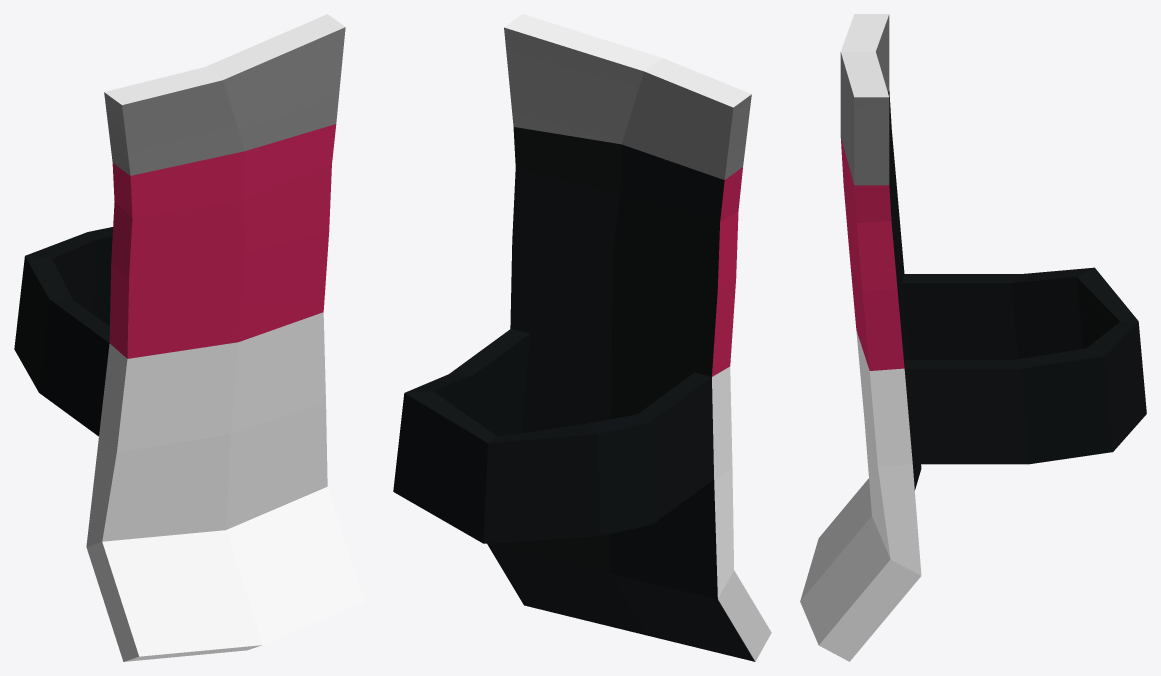
The model's file is Goalkeeper_2_Pad_Left.fbx.
3 renders of one model, left to right at view 1: azimuth 30°, elevation 25°; view 2: azimuth 150°, elevation 25°; view 3: azimuth 270°, elevation 25°, orthographic. The views are drawn at different scales.
Parts seen in each view (by area): view 1: Goalkeeper_2_Pad_Left; view 2: Goalkeeper_2_Pad_Left; view 3: Goalkeeper_2_Pad_Left.
Boxes of the visible parts, left/top/right/bottom form: Goalkeeper_2_Pad_Left: left=14, top=14, right=364, bottom=661; Goalkeeper_2_Pad_Left: left=393, top=14, right=771, bottom=661; Goalkeeper_2_Pad_Left: left=800, top=14, right=1146, bottom=661.
Bounding box in the file's own units: 21.68 × 53.96 × 29.58.
